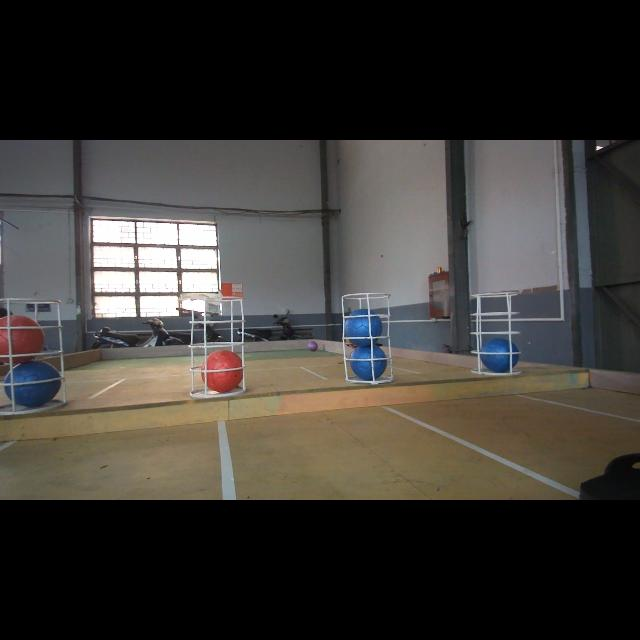B: (4, 361, 62, 407), (344, 308, 382, 346), (481, 339, 519, 373), (350, 346, 388, 380)
R: (0, 315, 46, 363), (202, 351, 245, 394)
